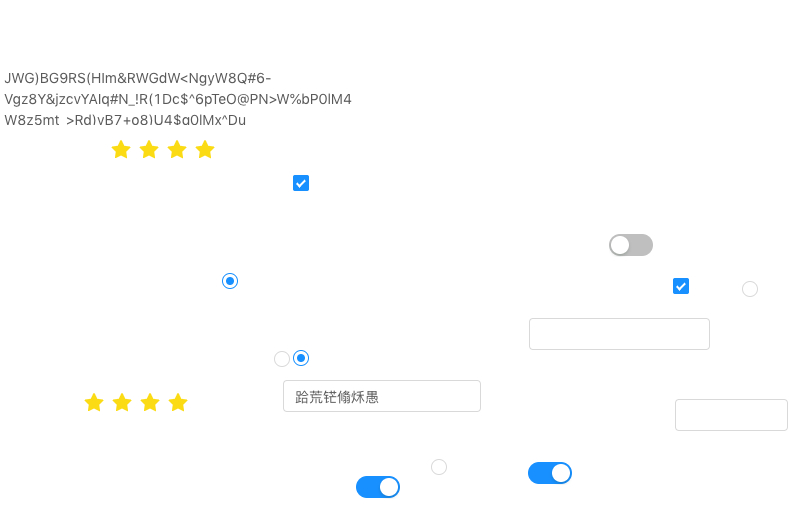Checkbox: (293, 172, 309, 193), (673, 275, 689, 296)
Input: (283, 380, 481, 412), (529, 318, 710, 350), (675, 399, 788, 431)
Radio: (293, 347, 309, 367), (274, 348, 290, 368), (431, 456, 447, 476), (222, 270, 238, 290), (742, 278, 758, 298)
Rate: (84, 386, 204, 418), (111, 133, 231, 165)
Switch: (528, 461, 572, 485), (356, 475, 400, 499), (609, 233, 653, 257)
Text: (4, 67, 356, 125)
